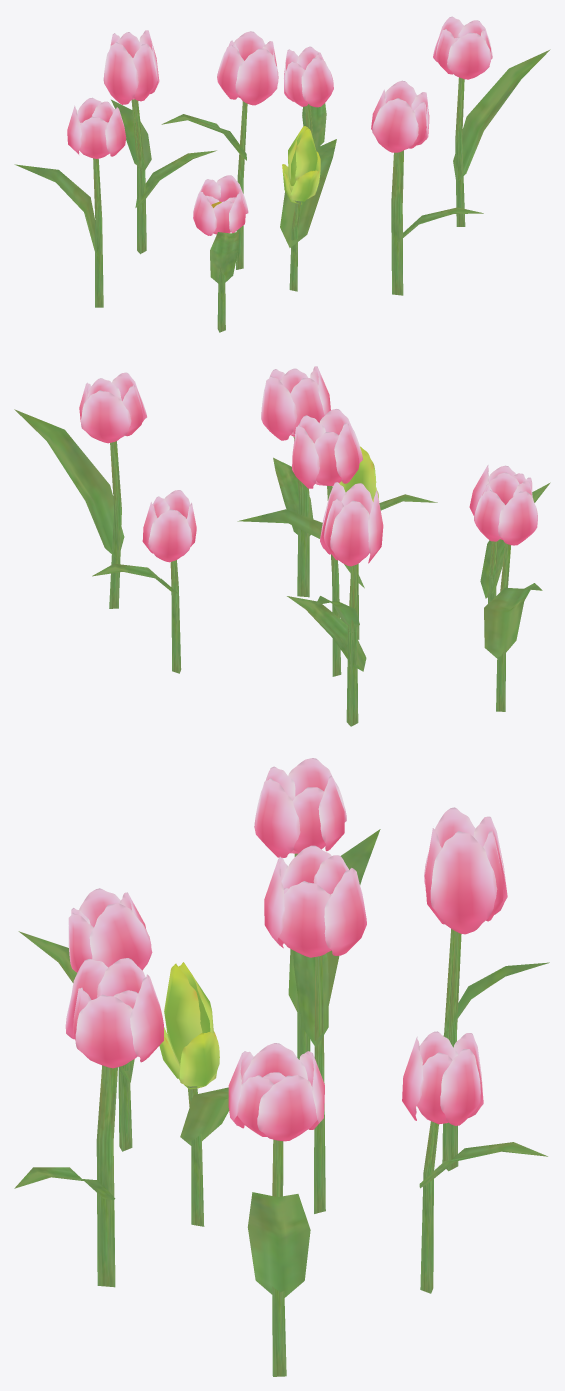
File: P_TulipsPink.obj
The picture shows the model from 3 angles, top to bottom: view 1: azimuth 30°, elevation 25°; view 2: azimuth 150°, elevation 25°; view 3: azimuth 270°, elevation 25°; orthographic projection. The views are drawn at different scales.
Bounding box in the file's own units: 2.34 × 1.01 × 1.35.
